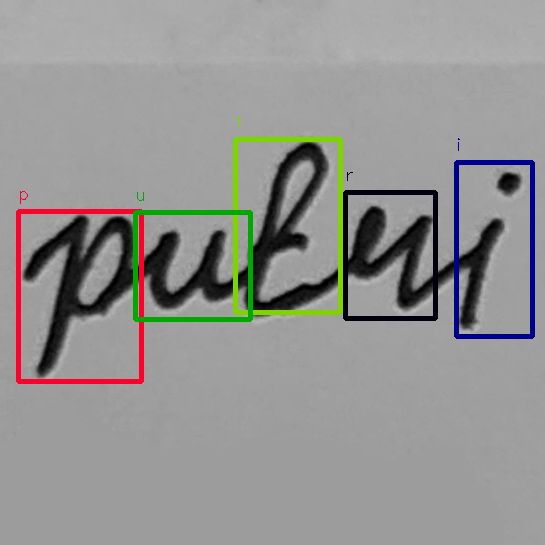i: (446, 168, 525, 334)
p: (31, 208, 139, 387)
r: (340, 200, 439, 320)
t: (238, 137, 333, 324)
u: (143, 221, 230, 313)
